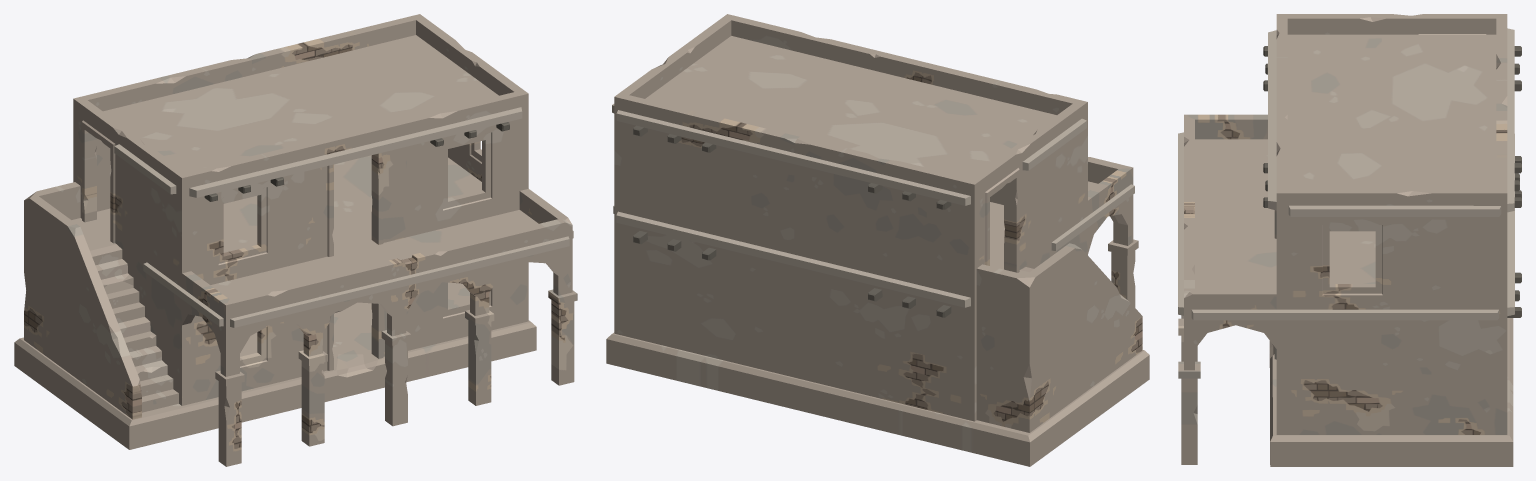
File: SM_Bld_Village_House_03.glb
The picture shows the model from 3 angles, left to right: view 1: azimuth 30°, elevation 25°; view 2: azimuth 150°, elevation 25°; view 3: azimuth 270°, elevation 25°; orthographic projection. The views are drawn at different scales.
Visible parts, largest first — view 1: SM_Bld_Village_House_03; view 2: SM_Bld_Village_House_03; view 3: SM_Bld_Village_House_03.
Part boxes in pixels (x1=…): SM_Bld_Village_House_03: x1=14, y1=14, x2=577, y2=466; SM_Bld_Village_House_03: x1=606, y1=14, x2=1149, y2=466; SM_Bld_Village_House_03: x1=1178, y1=14, x2=1521, y2=466.
Size of the model in its own units: 11.27 by 6.74 by 7.74.
1 material, 1 textured.
